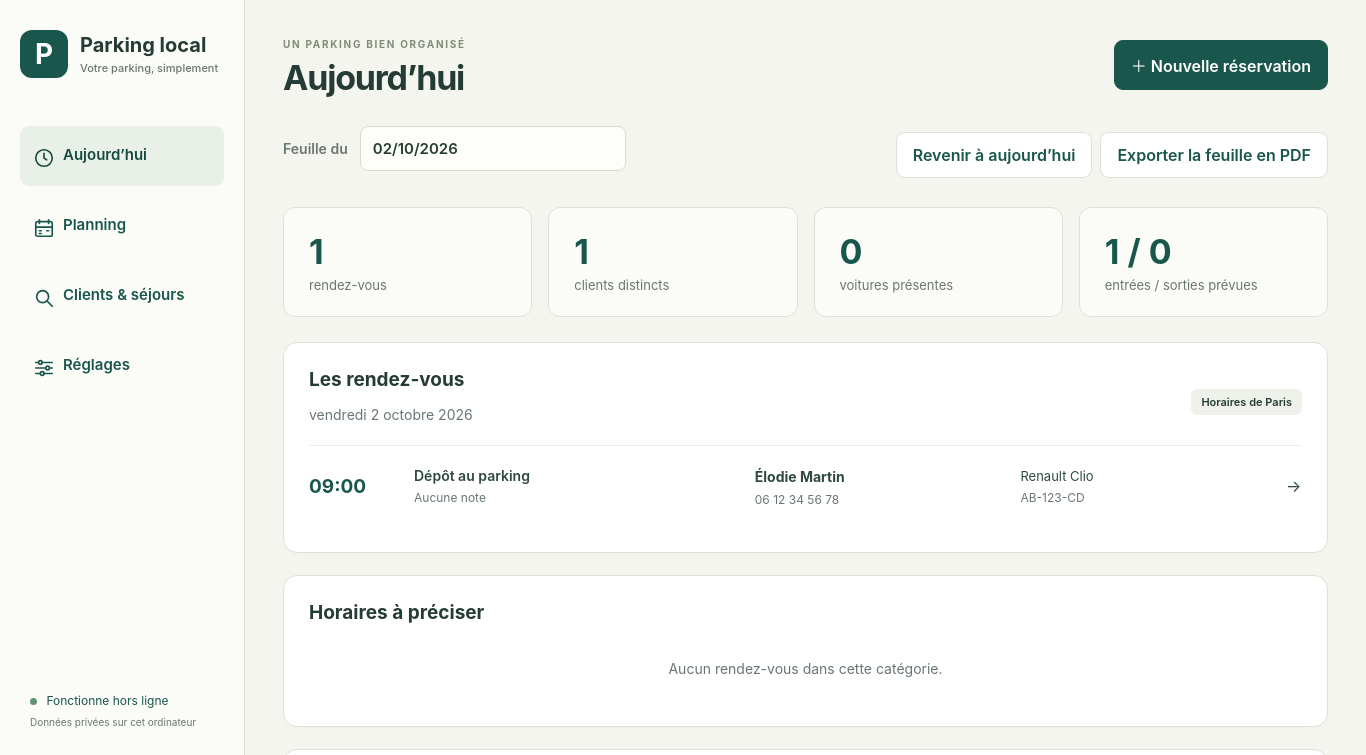
Test: parcours du gestionnaire › ouvre le rendez-vous puis retrouve les coordonnées et centimes
The image size is (1366, 755).
Click the button "Dépôt au parking".
click(806, 486)  # box [309,445,1302,527]
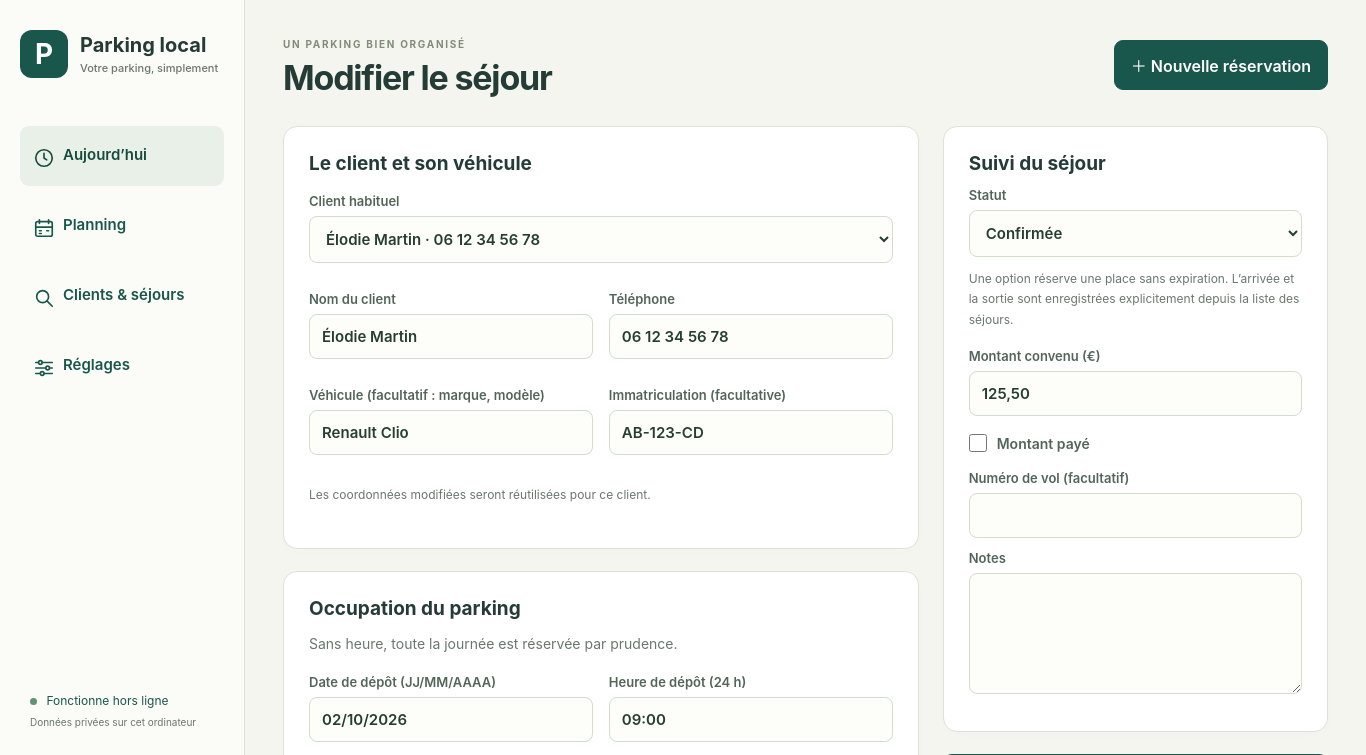
Check: the field labelled "Nom du client" holds "Élodie Martin", box [309,314,593,359]
Check: the field labelled "Montant convenu (€)" holds "125,50", box [969,371,1302,416]
Check: the field labelled "Téléphone" holds "06 12 34 56 78", box [609,314,893,359]
